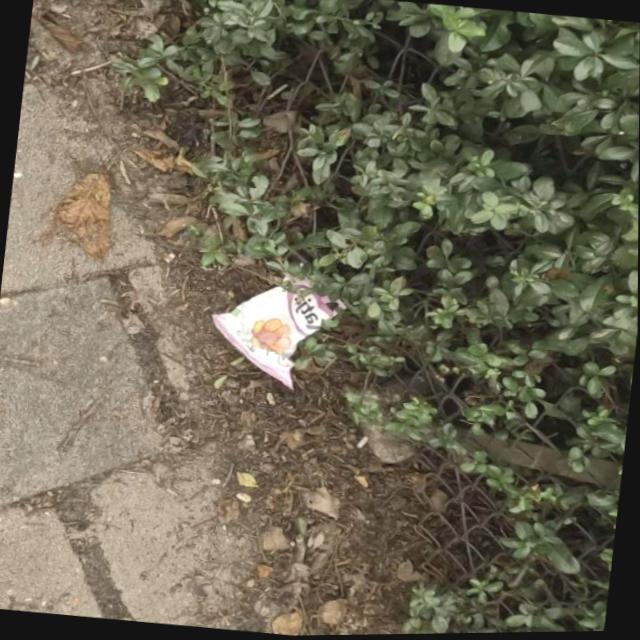Plastic: (201, 252, 353, 398)
